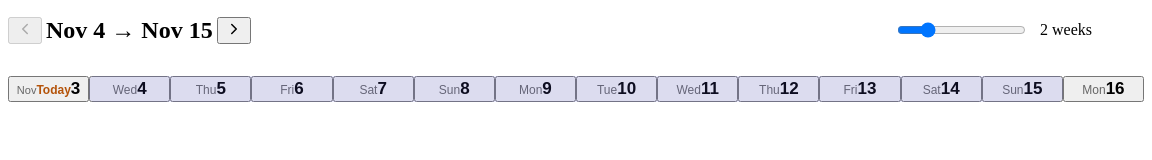
Scenario: widens to fit a long period and never narrows on its own
Click the button named "Next period". click: (234, 30)
box: [217,17,251,44]
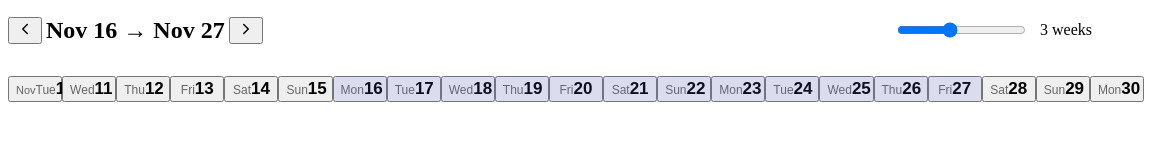
Expected: the heading reads "Nov 16 → Nov 27", [46,17,225,43]
Expected: the text "3 weeks" is shown, [1040,21,1092,38]
Press the mouse on the button with aria-label "Tuesday November 24th" at (792, 89), box [765,76,819,102]
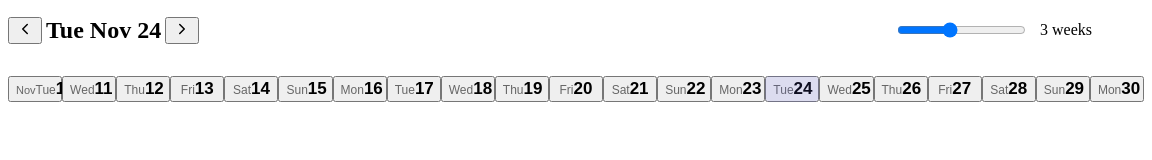
Expected: the slider named "Zoom" holds "3", [897,22,1026,38]
Expected: the heading reads "Tue Nov 24", [46,17,161,43]
